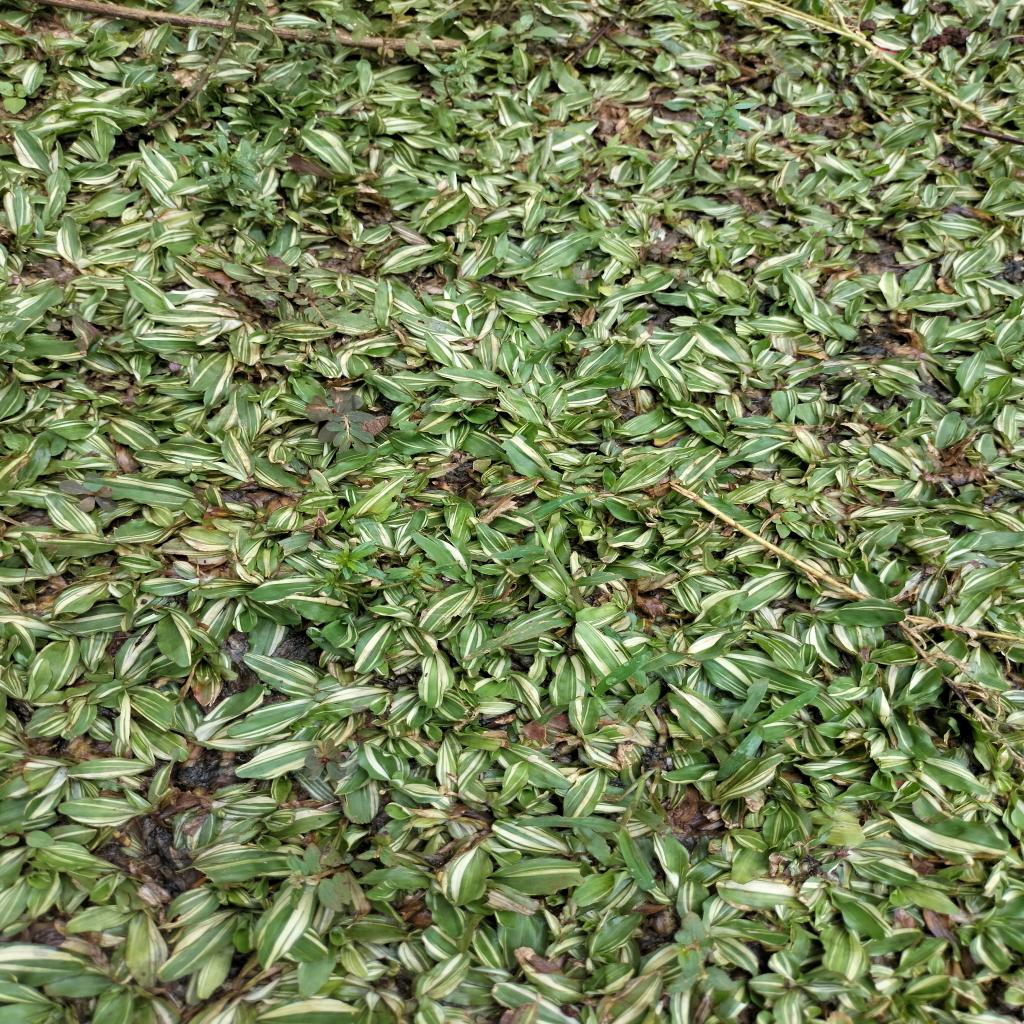akar wangi: (679, 78, 764, 188), (192, 126, 280, 226), (310, 537, 442, 600), (432, 39, 486, 93)
buah daun: (238, 266, 345, 334), (301, 384, 381, 459)
rambat atas: (514, 758, 672, 892), (489, 489, 626, 610), (703, 674, 825, 782), (572, 650, 670, 725)
tunggang tengah: (279, 839, 379, 917)
